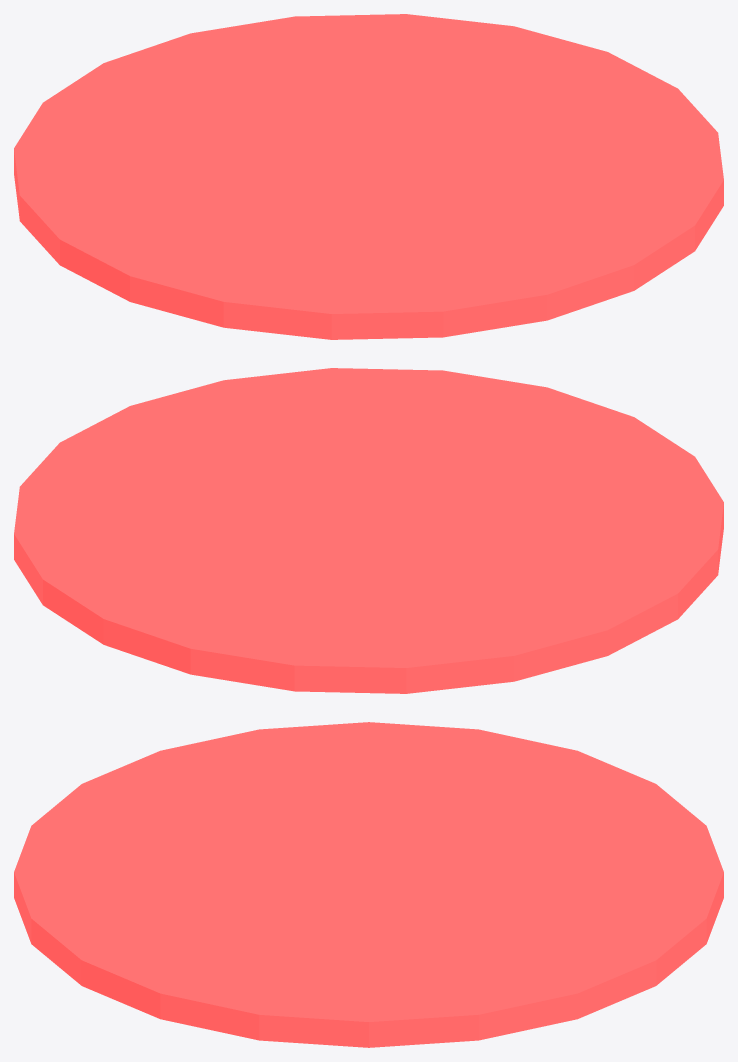
The model's file is prop_volcanus_lava_pool.fbx.
The picture shows the model from 3 angles, top to bottom: view 1: azimuth 30°, elevation 25°; view 2: azimuth 150°, elevation 25°; view 3: azimuth 270°, elevation 25°; orthographic projection.
Parts seen in each view (by area): view 1: Vo_LavaPool; view 2: Vo_LavaPool; view 3: Vo_LavaPool.
Boxes of the visible parts, x1,y1,x2,y2 form: Vo_LavaPool: (14,14,723,339); Vo_LavaPool: (14,368,723,693); Vo_LavaPool: (14,722,723,1047).
Size of the model in its own units: 1 by 0.04 by 1.
